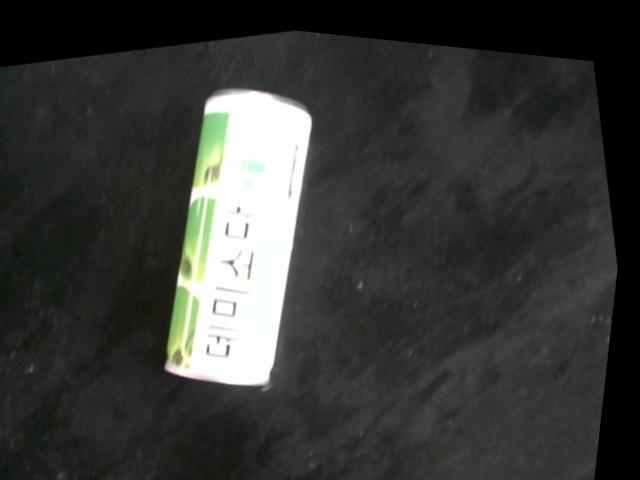can: (170, 82, 315, 381)
